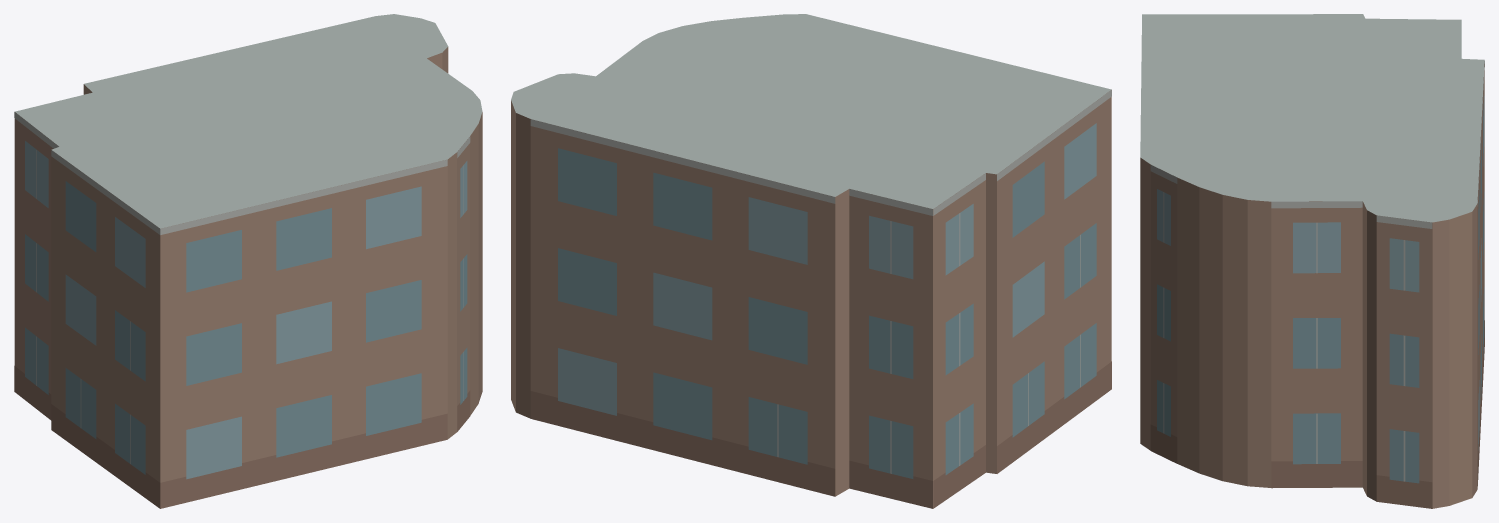
File: survey-upis-32839194.glb
The picture shows the model from 3 angles, left to right: view 1: azimuth 30°, elevation 25°; view 2: azimuth 150°, elevation 25°; view 3: azimuth 270°, elevation 25°; orthographic projection. The views are drawn at different scales.
Visible parts, largest first — view 1: survey-upis-32839194.tmp; view 2: survey-upis-32839194.tmp; view 3: survey-upis-32839194.tmp.
Part boxes in pixels (<box>): survey-upis-32839194.tmp: <box>14,14,482,508</box>; survey-upis-32839194.tmp: <box>511,14,1111,508</box>; survey-upis-32839194.tmp: <box>1140,14,1484,508</box>.
Bounding box in the file's own units: 16.4 × 10.5 × 11.46.
